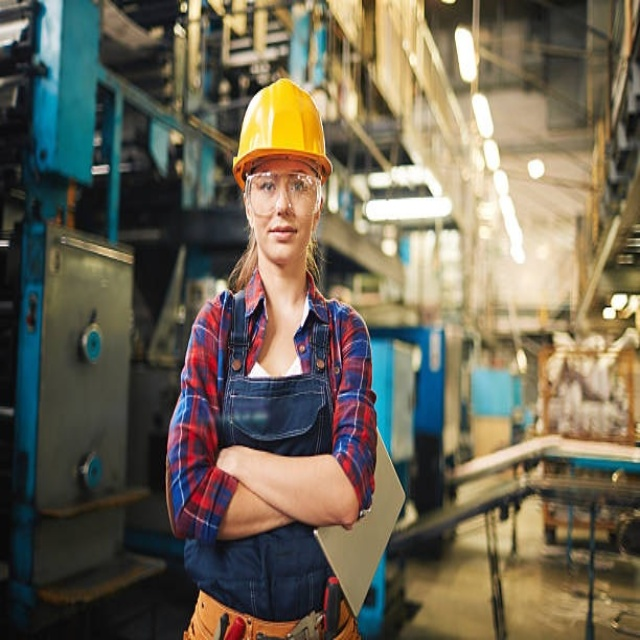Gafas: (245, 169, 322, 221)
Sin_mascara: (262, 216, 303, 260)
